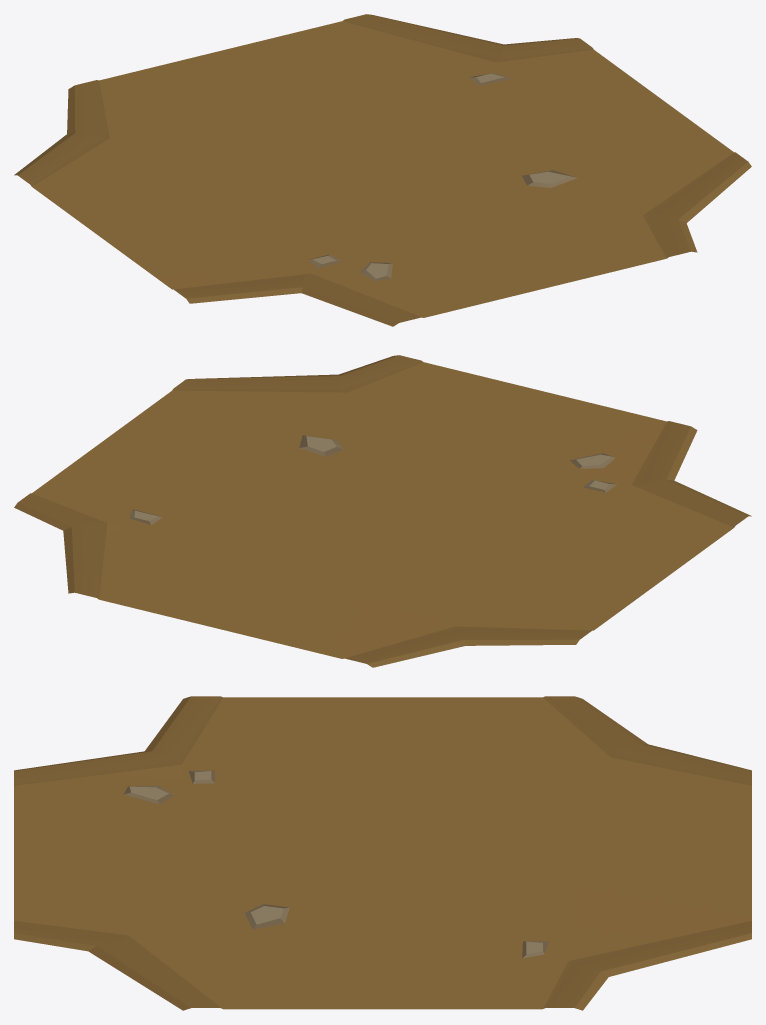
File: Path_Intersection_04.gltf
3 views of the same model, one above another, from view 1: azimuth 30°, elevation 25°; view 2: azimuth 150°, elevation 25°; view 3: azimuth 270°, elevation 25° (orthographic). The views are drawn at different scales.
Parts seen in each view (by area): view 1: SF_Env_Path_Intersection_04; view 2: SF_Env_Path_Intersection_04; view 3: SF_Env_Path_Intersection_04.
Boxes of the visible parts, box(x1,y1,x2,y2) form: SF_Env_Path_Intersection_04: box(14, 14, 751, 326); SF_Env_Path_Intersection_04: box(14, 355, 751, 667); SF_Env_Path_Intersection_04: box(14, 696, 751, 1010).
Bounding box in the file's own units: 0.1 × 0.000509 × 0.1.
1 material, 1 textured.
